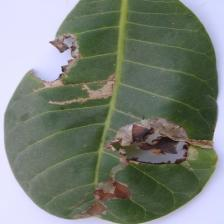leaf miner: (3, 0, 219, 223)
